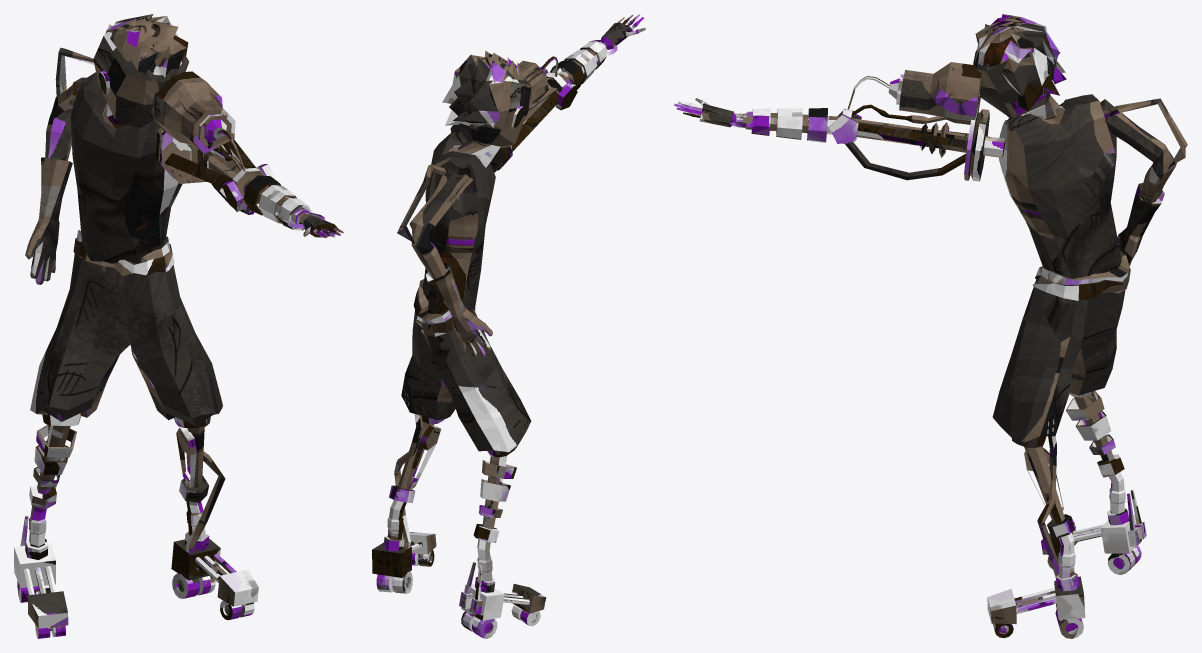
Rendered from CyborgFINALAnimation_000090.obj.
3 views of the same model, side by side, from view 1: azimuth 30°, elevation 25°; view 2: azimuth 150°, elevation 25°; view 3: azimuth 270°, elevation 25° (orthographic). The views are drawn at different scales.
Parts seen in each view (by area): view 1: CyborgMesh_Cube.002; view 2: CyborgMesh_Cube.002; view 3: CyborgMesh_Cube.002.
Part boxes in pixels (bbox=[...]): CyborgMesh_Cube.002: bbox=[14, 14, 343, 638]; CyborgMesh_Cube.002: bbox=[372, 14, 645, 638]; CyborgMesh_Cube.002: bbox=[674, 14, 1187, 638].
Size of the model in its own units: 3.04 by 9.42 by 7.6.
